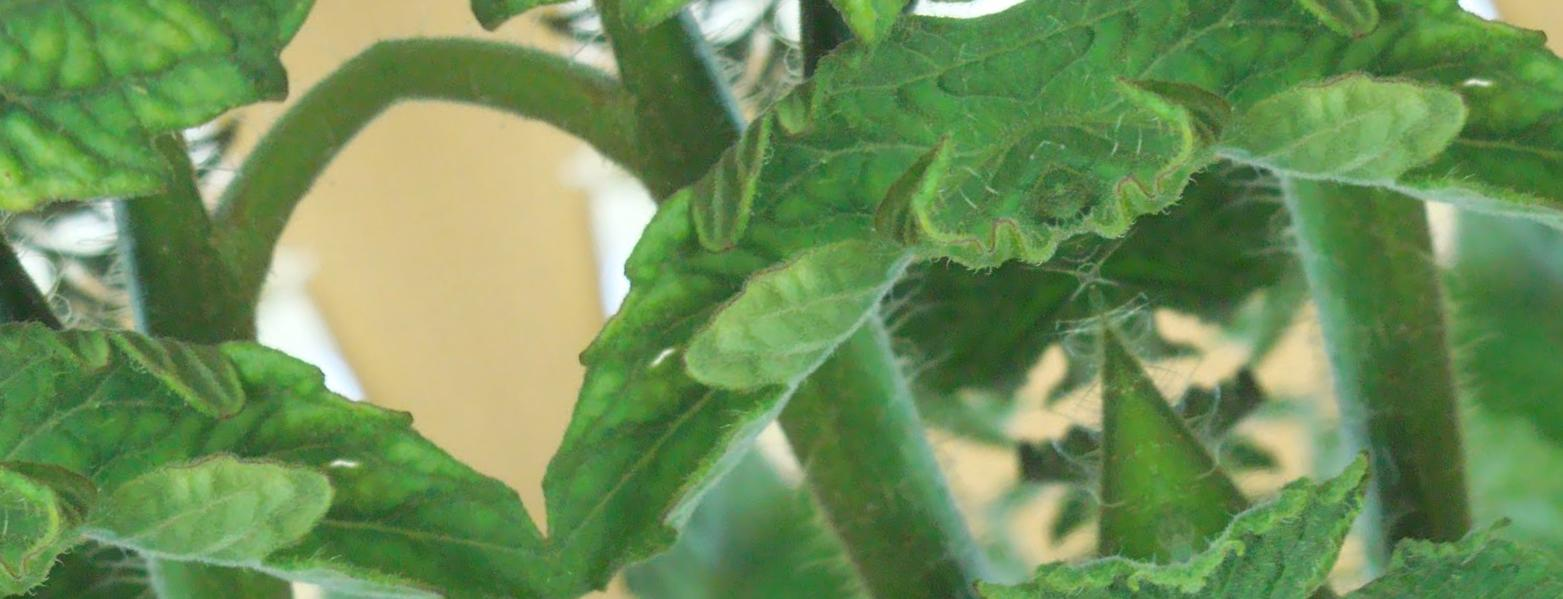Tomato leaf mosaic virus: (369, 0, 1146, 599), (251, 0, 986, 159), (654, 510, 1312, 599)
